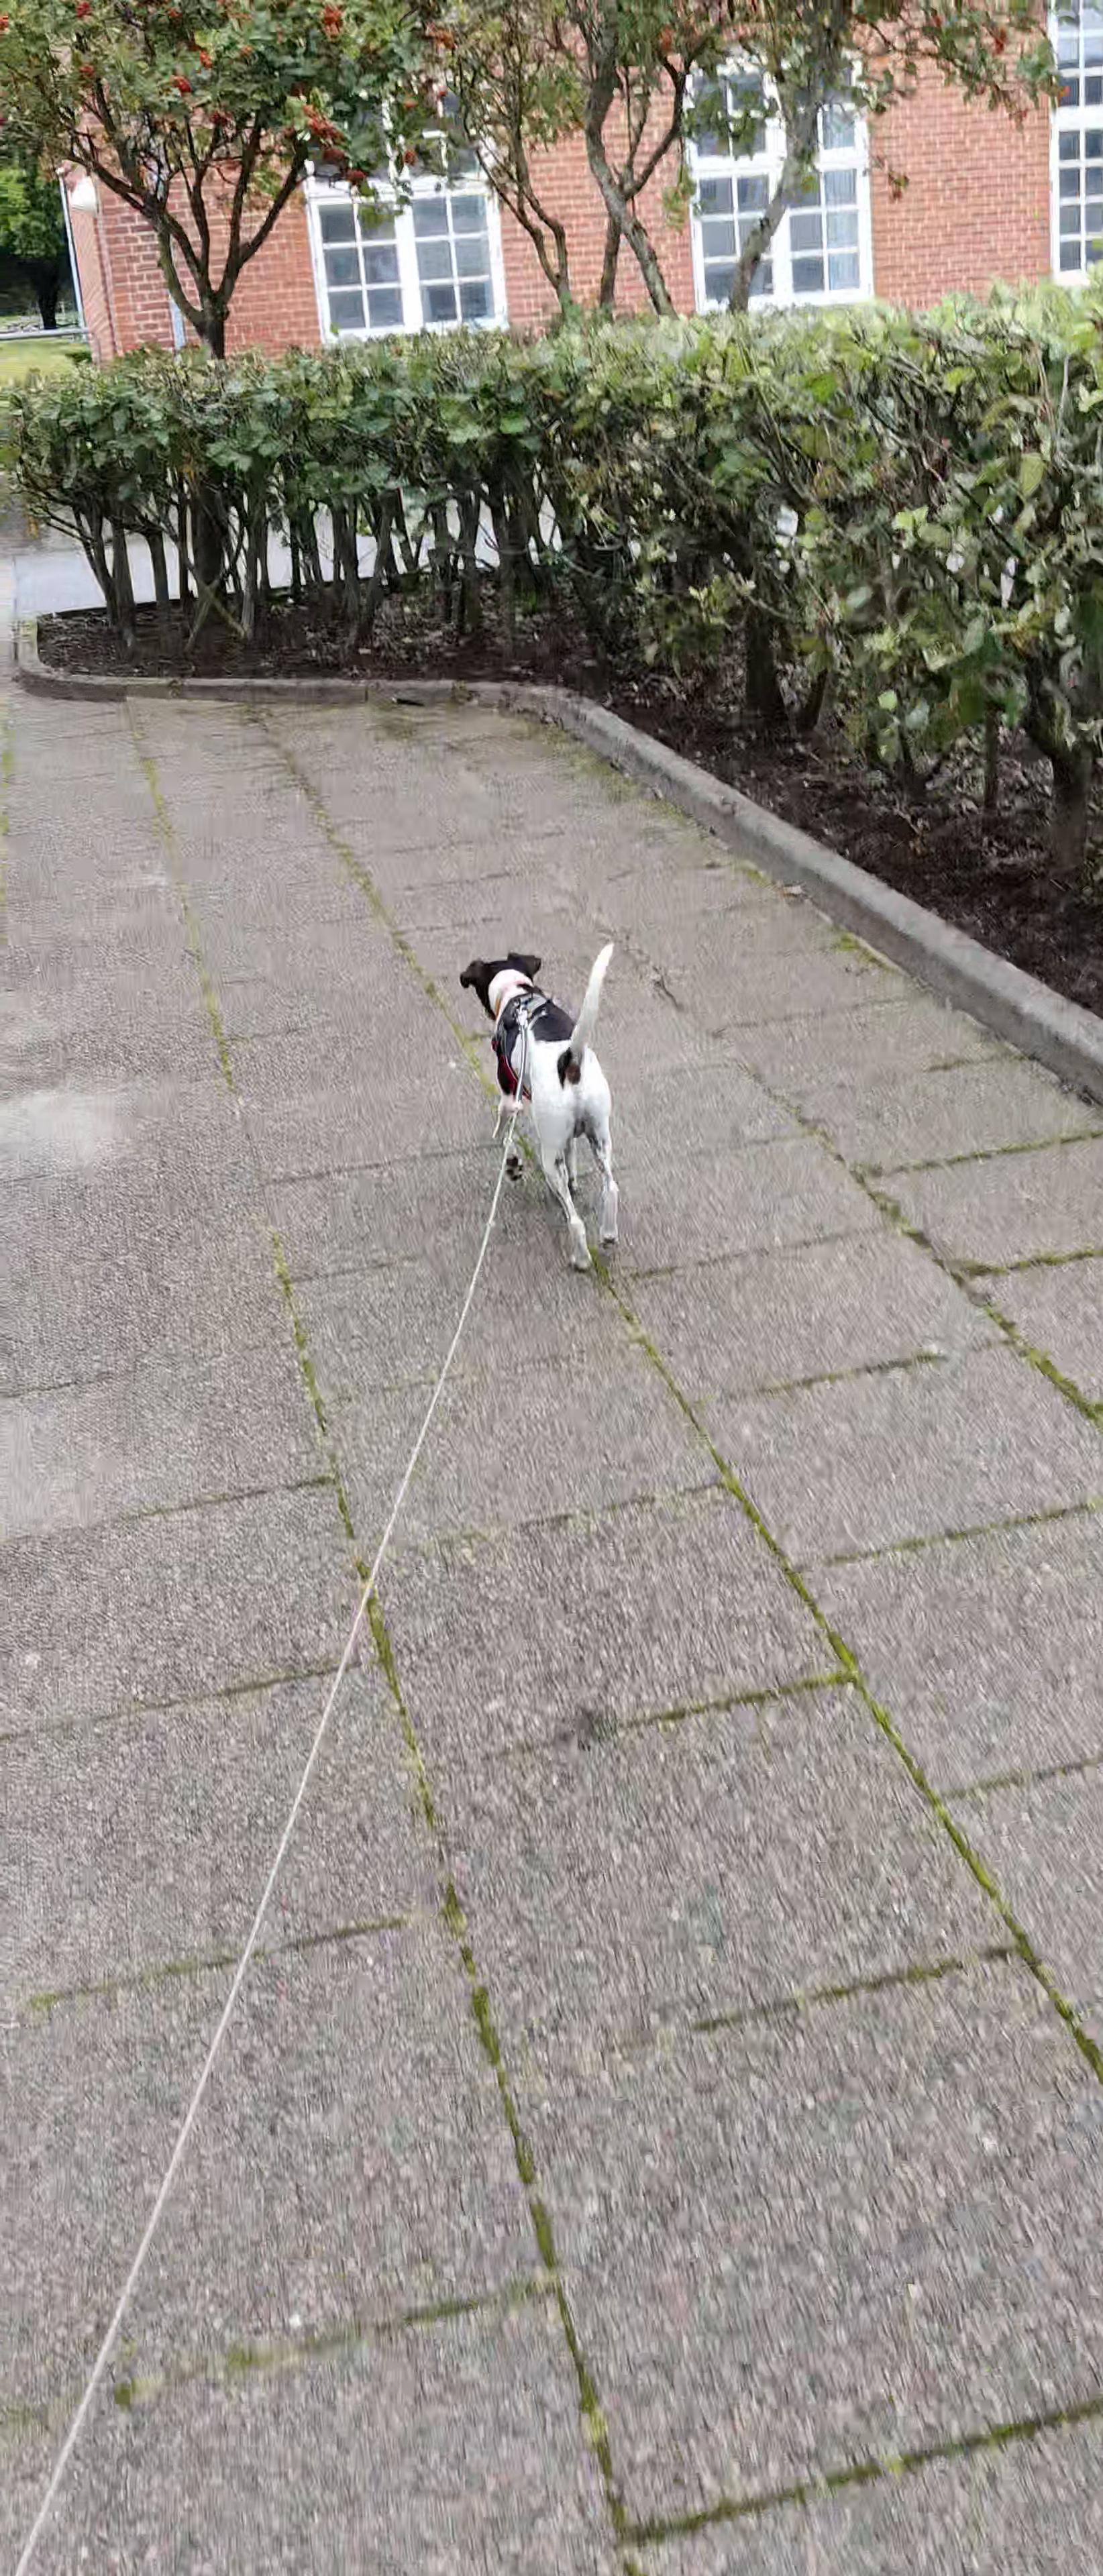Dog: (426, 908, 646, 1280)
